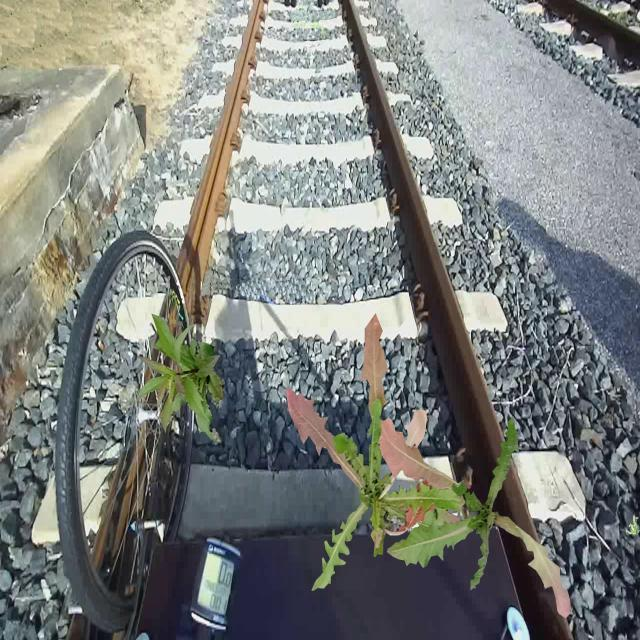Plant: (287, 313, 467, 591), (379, 416, 572, 618), (135, 314, 224, 444), (626, 514, 640, 534)
